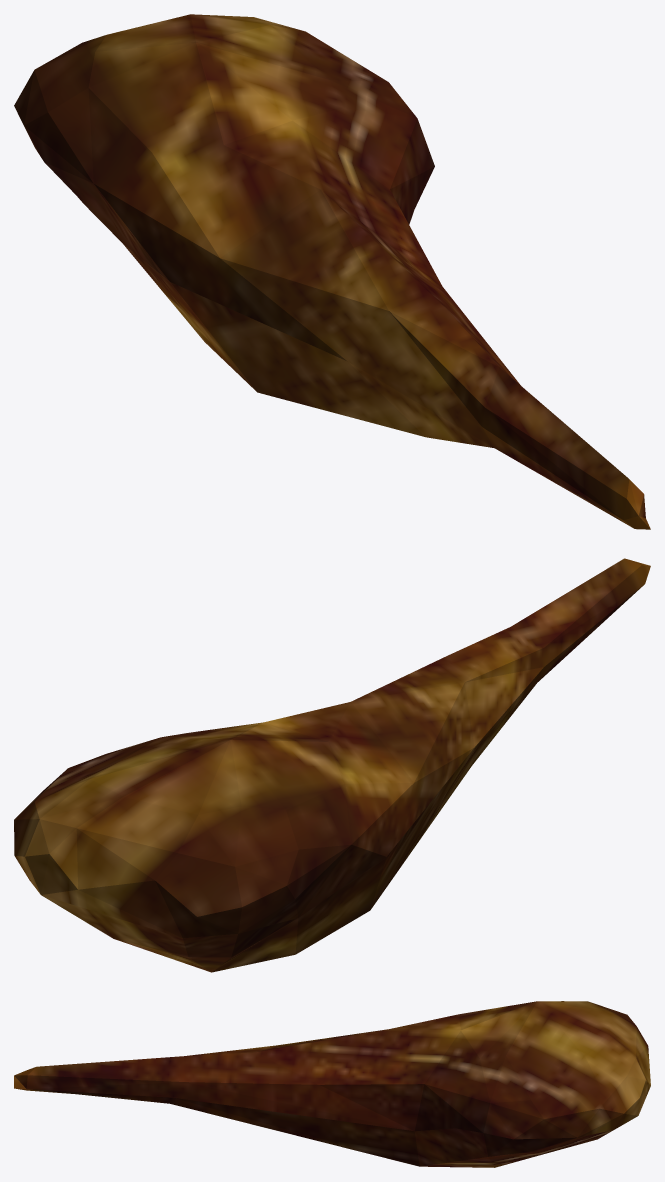
Rendered from KM_COOKED_MEAT_02.glb.
3 renders of one model, top to bottom at view 1: azimuth 30°, elevation 25°; view 2: azimuth 150°, elevation 25°; view 3: azimuth 270°, elevation 25°, orthographic. The views are drawn at different scales.
Visible parts, largest first — view 1: KM_COOKED_MEAT_02; view 2: KM_COOKED_MEAT_02; view 3: KM_COOKED_MEAT_02.
Boxes of the visible parts, x1=… form: KM_COOKED_MEAT_02: x1=14, y1=14, x2=650, y2=529; KM_COOKED_MEAT_02: x1=14, y1=558, x2=650, y2=972; KM_COOKED_MEAT_02: x1=14, y1=1001, x2=650, y2=1167.
Bounding box in the file's own units: 0.1584 × 0.1308 × 0.4684.
1 material, 1 textured.
